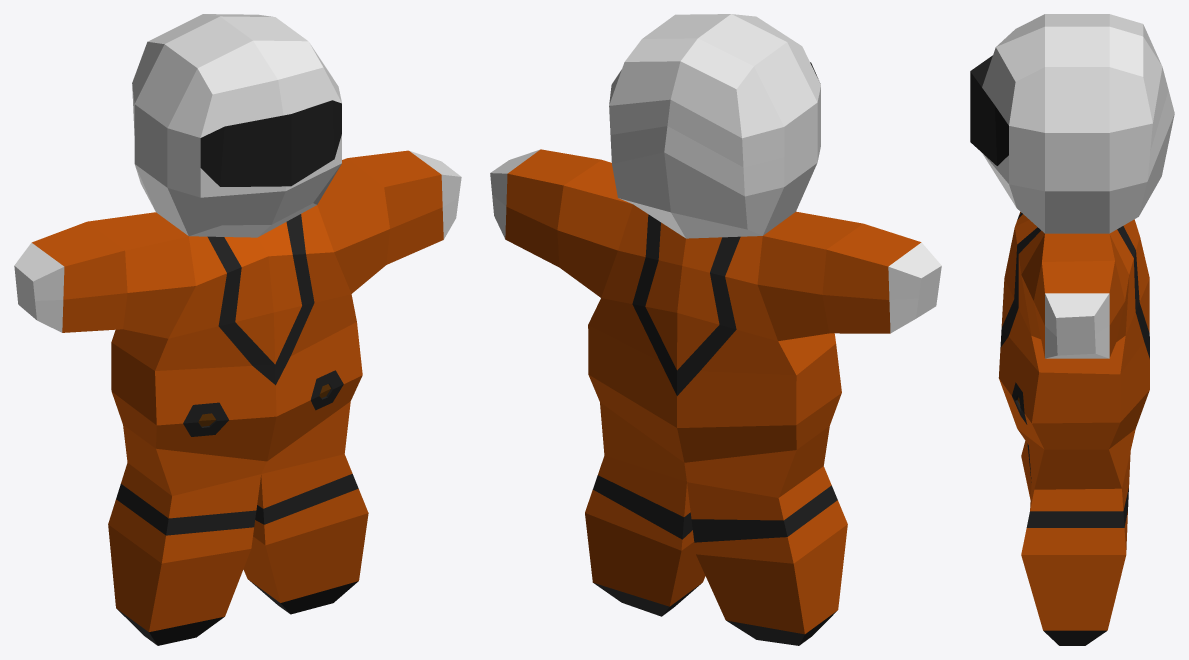
File: LowPolySpaceman.fbx
3 renders of one model, left to right at view 1: azimuth 30°, elevation 25°; view 2: azimuth 150°, elevation 25°; view 3: azimuth 270°, elevation 25°, orthographic. The views are drawn at different scales.
Parts seen in each view (by area): view 1: Spaceman; view 2: Spaceman; view 3: Spaceman.
Boxes of the visible parts, bbox=[...] form: Spaceman: bbox=[14, 14, 461, 645]; Spaceman: bbox=[490, 14, 941, 645]; Spaceman: bbox=[970, 14, 1174, 645].
Bounding box in the file's own units: 501 × 662 × 211.
